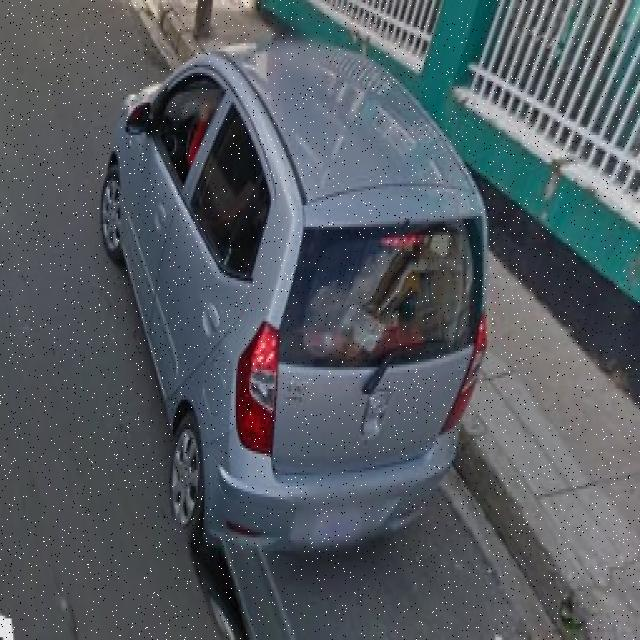cars: (106, 46, 492, 567)
